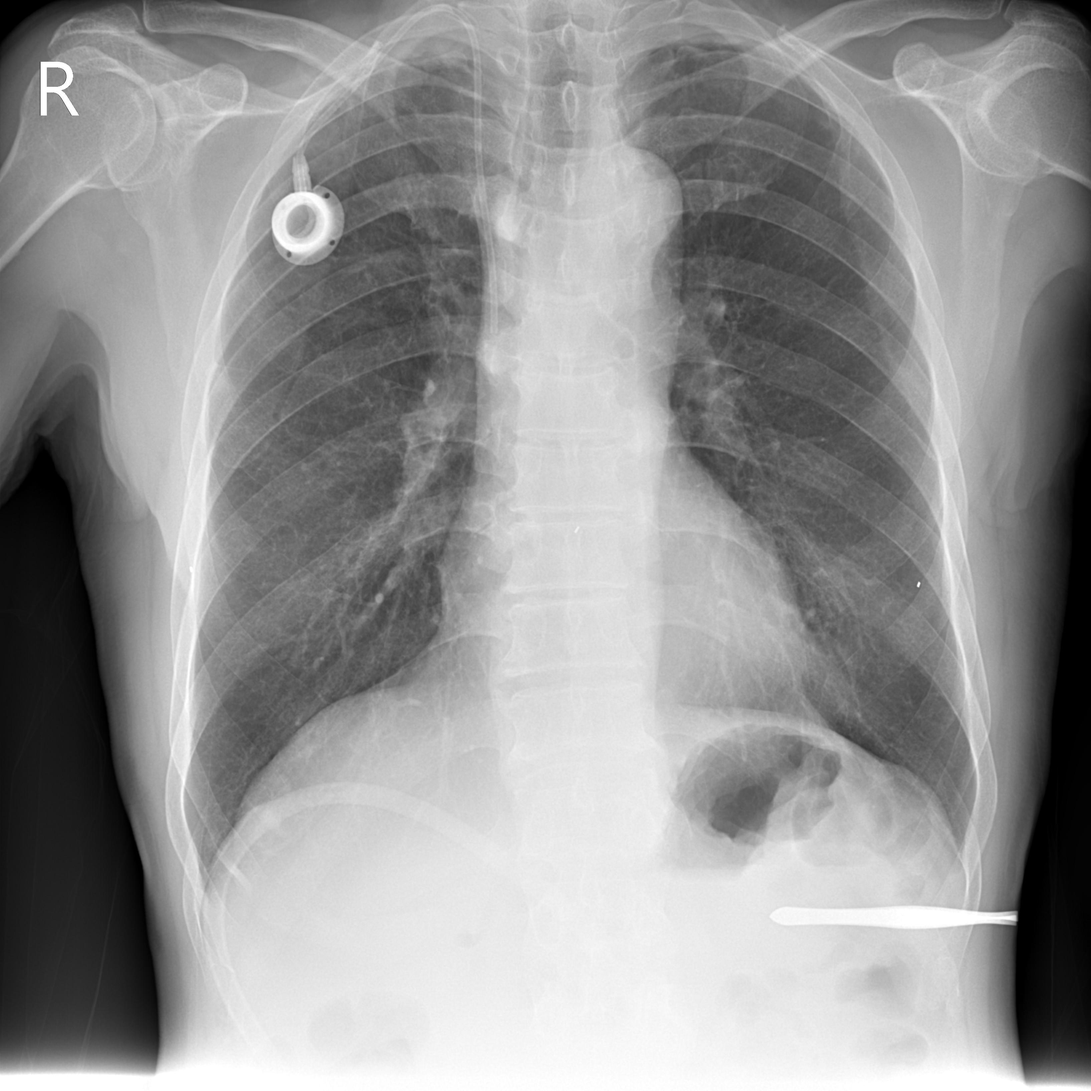Pleural thickening: (675, 20, 837, 100), (336, 27, 471, 63)
